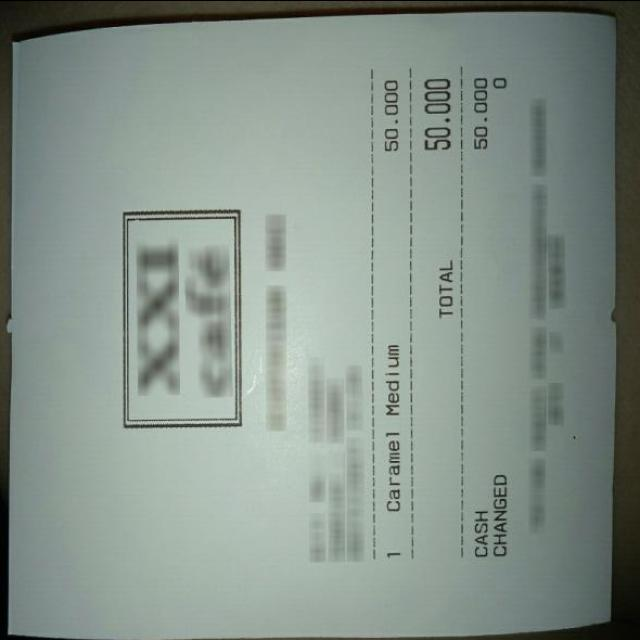kertas: (8, 12, 617, 639)
